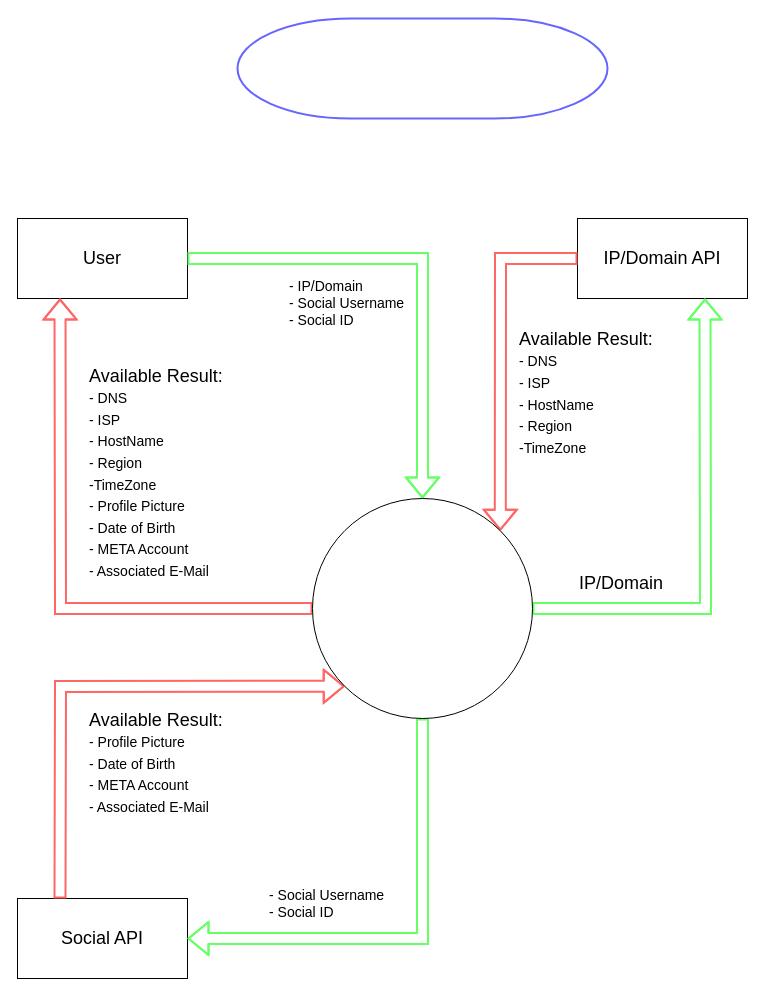
This 765x996 diagram has some shape labels left out. The centre of each missing label's shape, as x and y in pixels:
API Intregation Overview Diagram: [422,68]
Sistem OSINT Investigation Environtment: [422,608]
